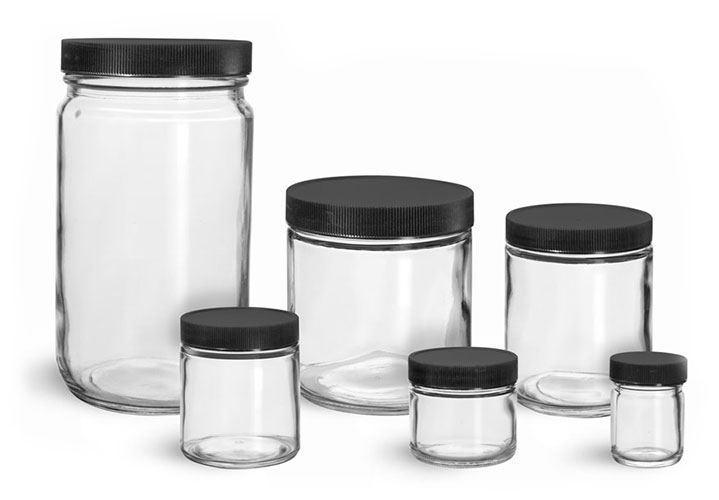glass_bottle: (52, 30, 257, 419), (282, 172, 476, 418), (501, 201, 658, 420), (176, 304, 305, 468), (403, 344, 523, 471), (607, 347, 689, 472)
